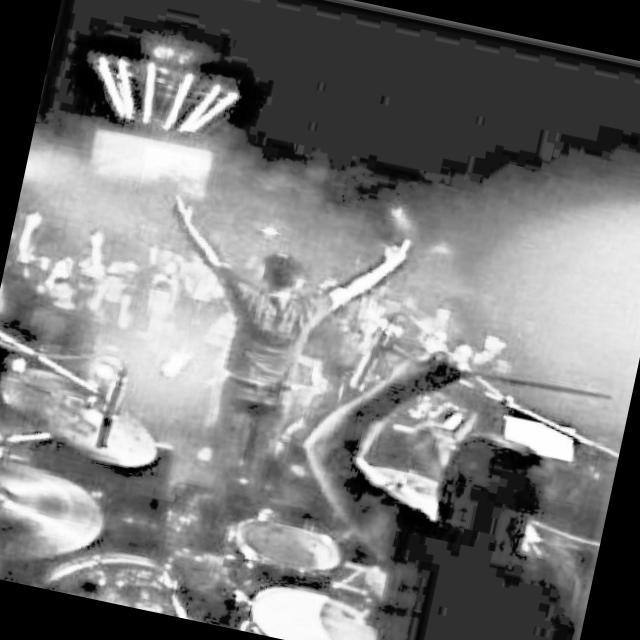Person: (108, 181, 410, 526)
